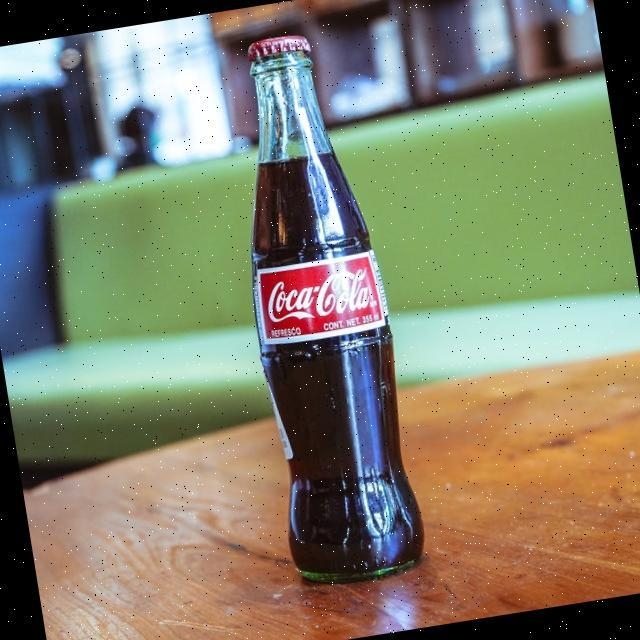coca-cola: (204, 19, 436, 589)
